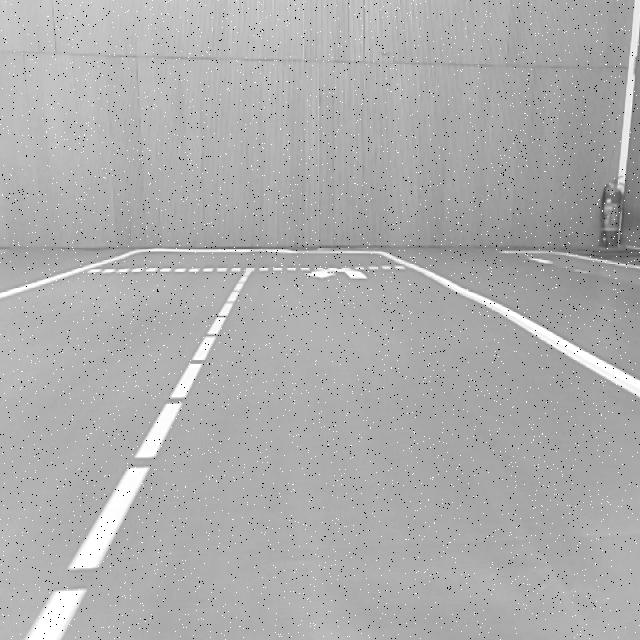left_lane: (23, 267, 251, 640)
right_lane: (386, 251, 640, 401), (0, 249, 138, 303)
